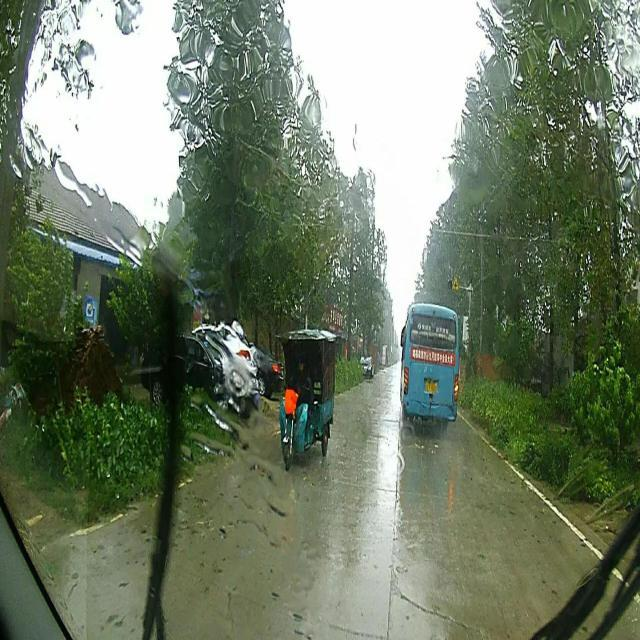car: (140, 332, 250, 420), (257, 347, 283, 392), (358, 354, 373, 378)
